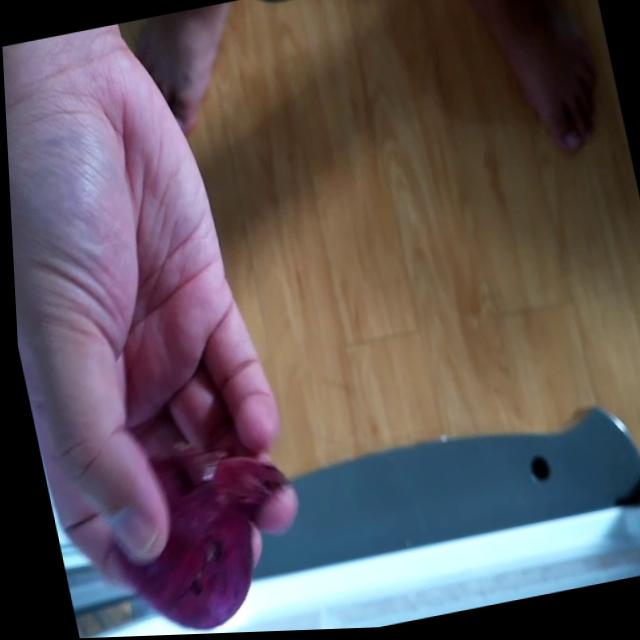onion: (82, 419, 299, 638)
